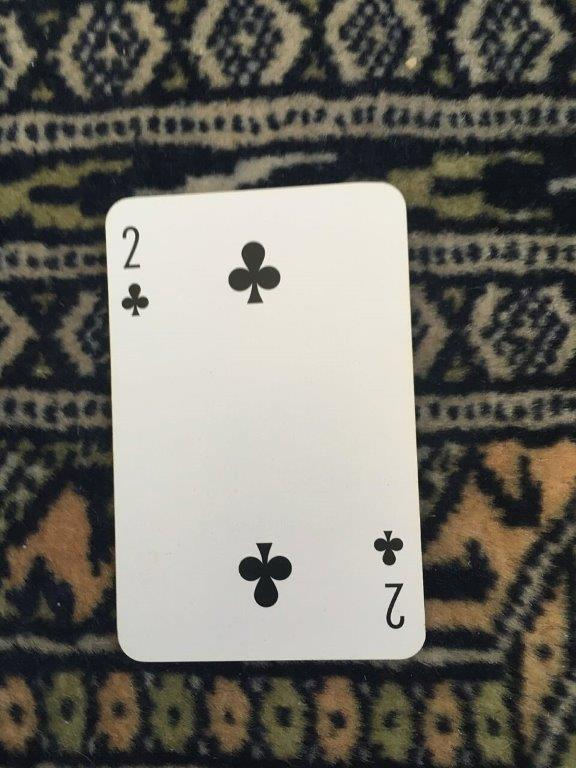2C: (101, 179, 428, 664)
